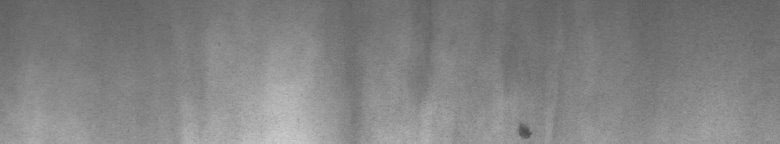fi: (512, 116, 536, 136)
